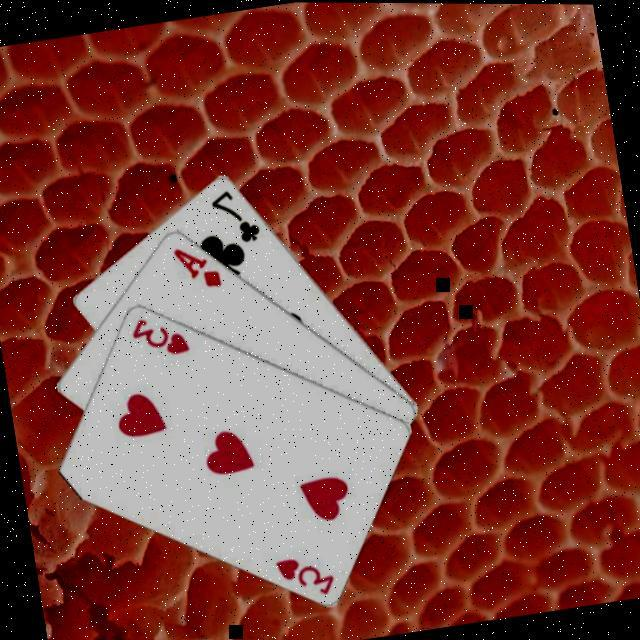3H: (272, 550, 341, 606), (127, 310, 195, 364)
7C: (207, 184, 266, 251)
AD: (170, 240, 227, 296)
